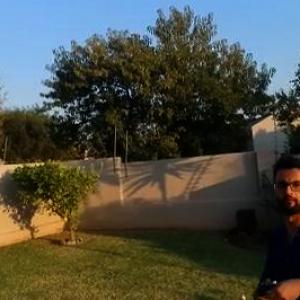follow: (242, 154, 300, 299)
